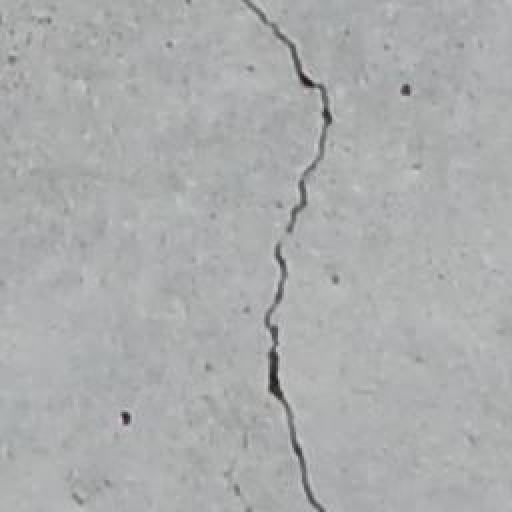spalling: (232, 3, 356, 504)
